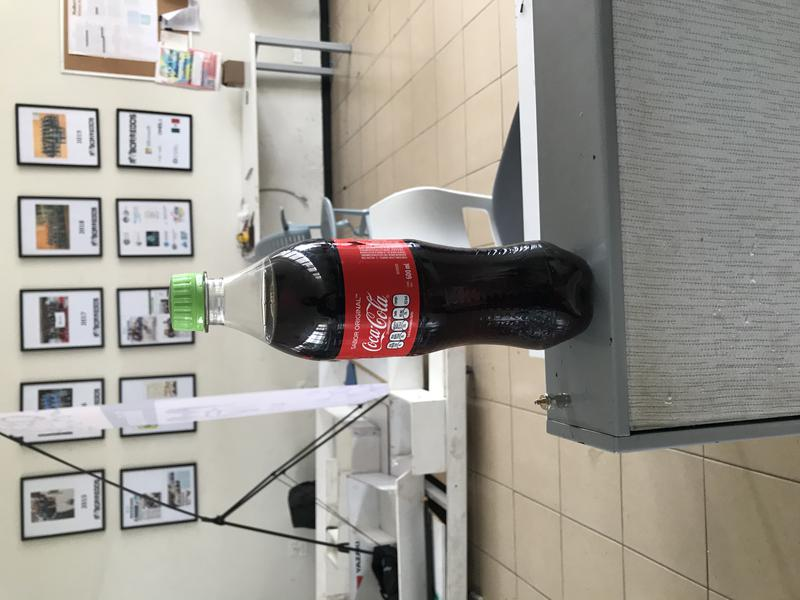coca_cola: (167, 239, 597, 361)
